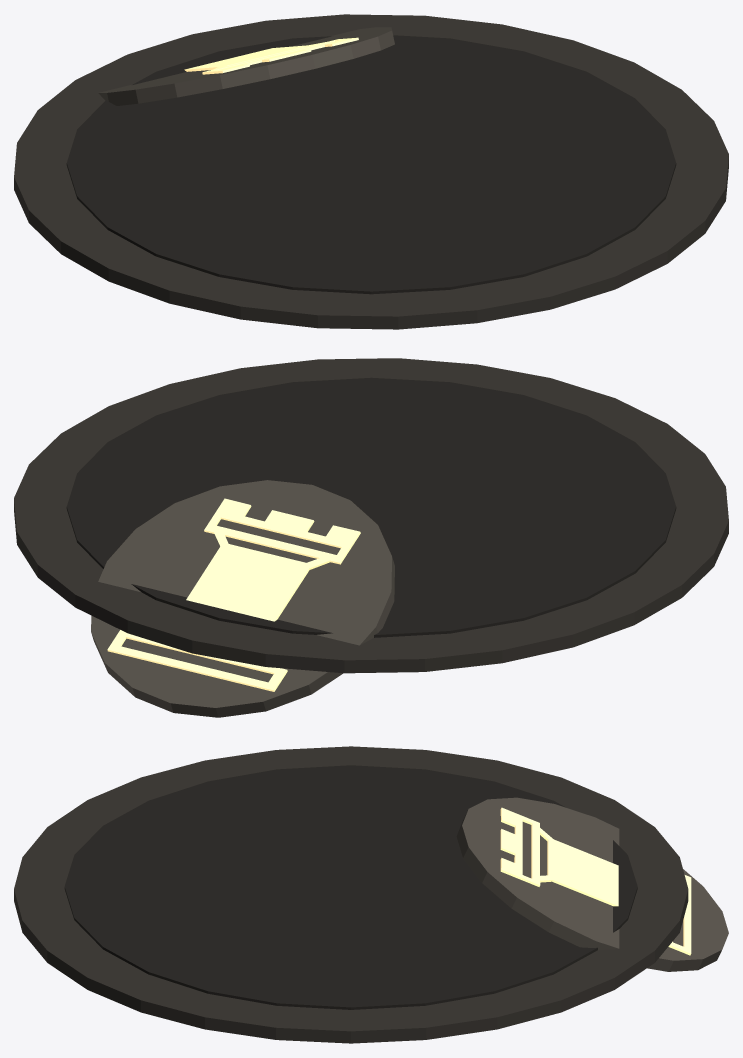
The model's file is glyph_ring_rook.glb.
3 views of the same model, one above another, from view 1: azimuth 30°, elevation 25°; view 2: azimuth 150°, elevation 25°; view 3: azimuth 270°, elevation 25° (orthographic). The views are drawn at different scales.
Visible parts, largest first — view 1: GlyphRing_rook; view 2: GlyphRing_rook; view 3: GlyphRing_rook.
Part boxes in pixels (x1,y1,x2,y2): GlyphRing_rook: (14,14,728,329); GlyphRing_rook: (14,358,728,717); GlyphRing_rook: (14,746,728,1043).
Bounding box in the file's own units: 0.6 × 0.1167 × 0.6362.
